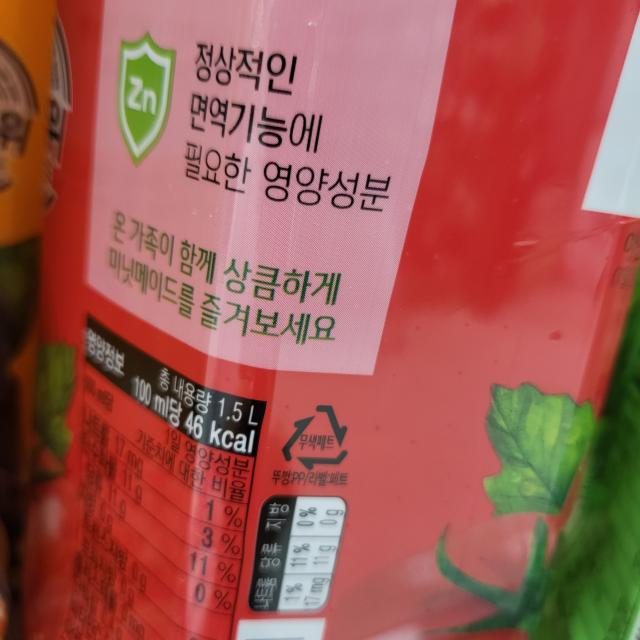ColorlessPET: (278, 399, 354, 478)
